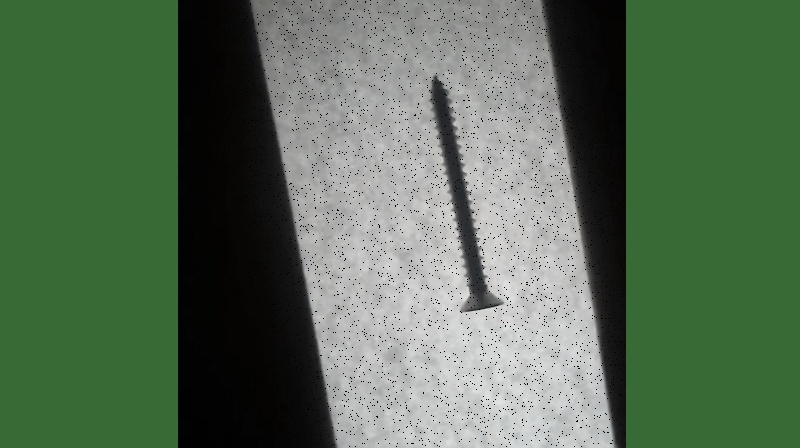S002: (426, 70, 505, 314)
